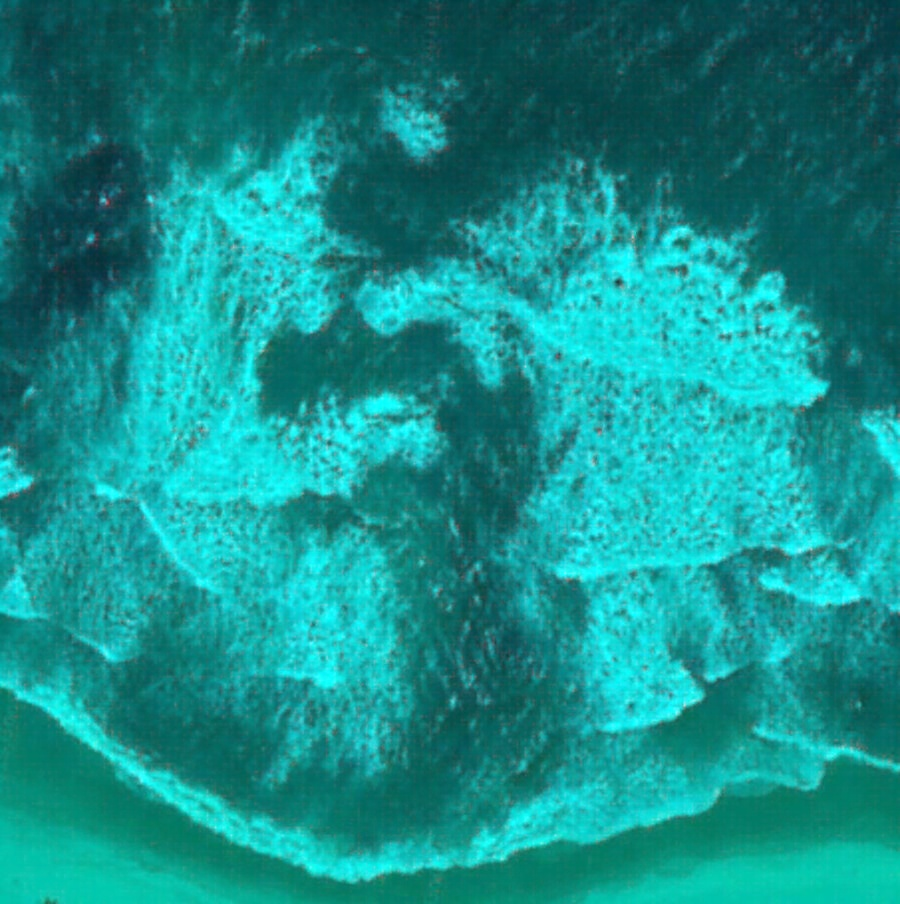rip_current: (234, 209, 600, 788)
